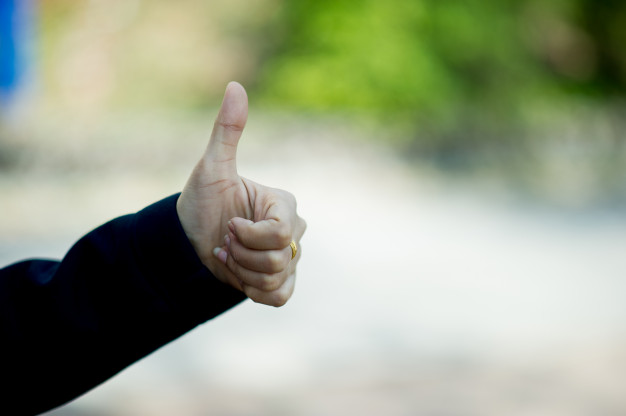thumbsup: (210, 81, 307, 308)
